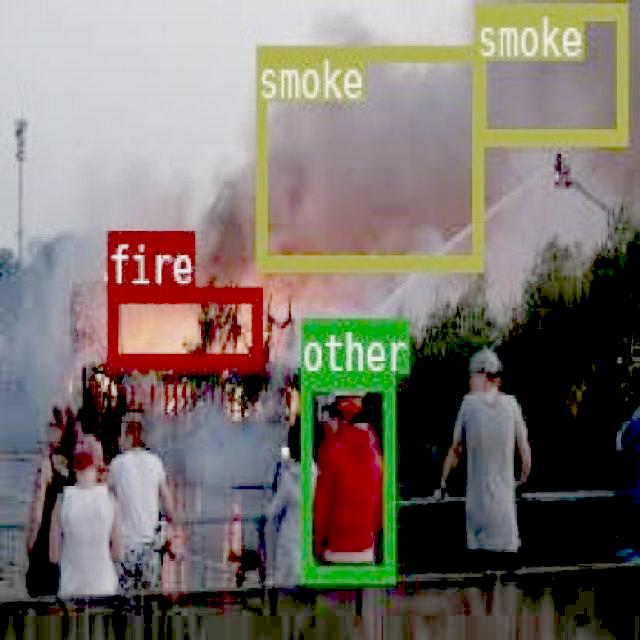fire: (106, 285, 260, 367)
smoke: (256, 42, 481, 268), (472, 1, 626, 144)
